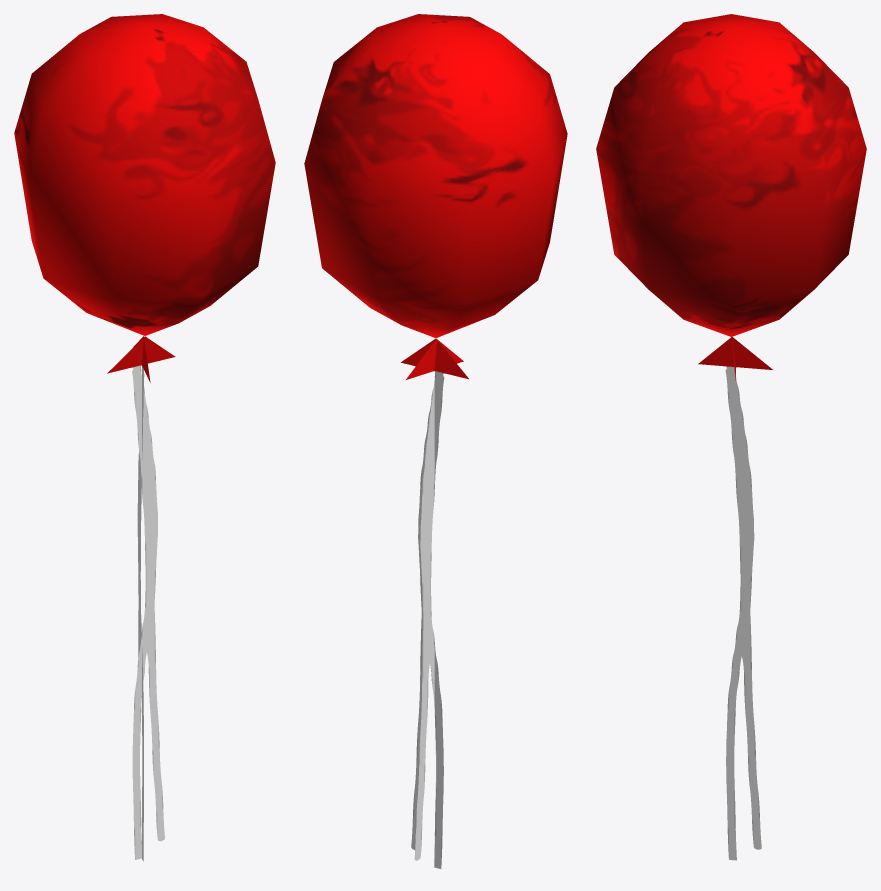
The model's file is Ballon01.fbx.
The picture shows the model from 3 angles, left to right: view 1: azimuth 30°, elevation 25°; view 2: azimuth 150°, elevation 25°; view 3: azimuth 270°, elevation 25°; orthographic projection.
Visible parts, largest first — view 1: Balloon01; view 2: Balloon01; view 3: Balloon01.
Part boxes in pixels (x1,y1,x2,y2): Balloon01: (14,14,275,861); Balloon01: (304,14,567,868); Balloon01: (596,14,866,860).
Bounding box in the file's own units: 0.1017 × 0.3468 × 0.1017.
